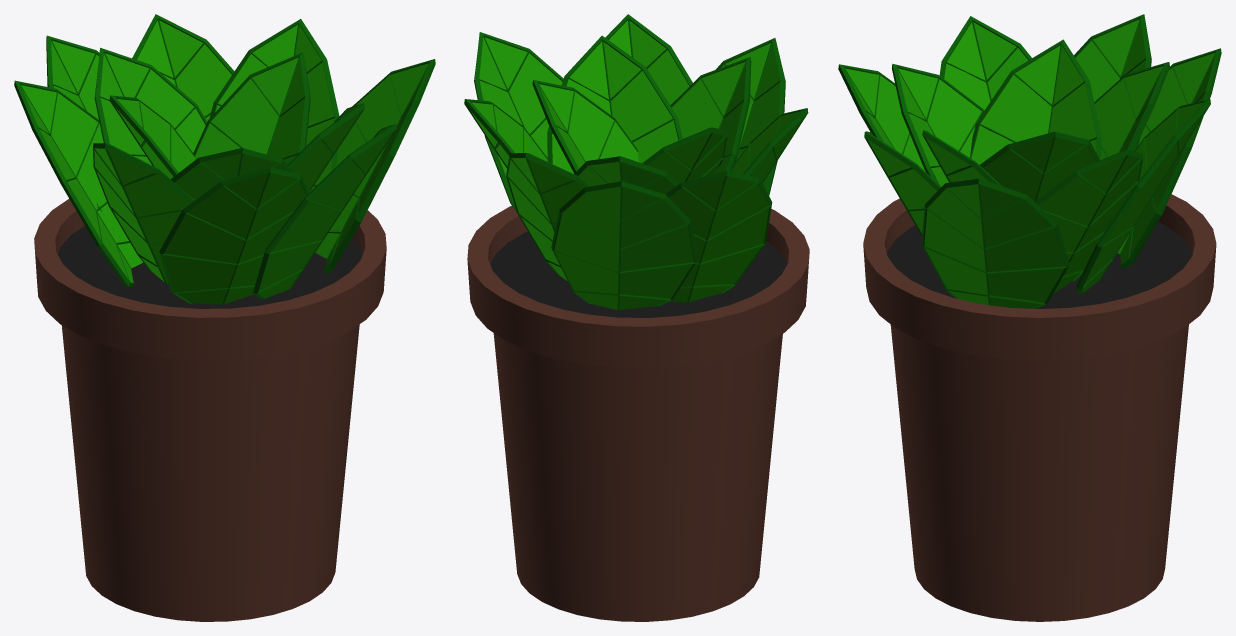
File: jakas_roslina.fbx
The picture shows the model from 3 angles, left to right: view 1: azimuth 30°, elevation 25°; view 2: azimuth 150°, elevation 25°; view 3: azimuth 270°, elevation 25°; orthographic projection. The views are drawn at different scales.
Visible parts, largest first — view 1: Cylinder; view 2: Cylinder; view 3: Cylinder.
Boxes of the visible parts, x1,y1,x2,y2 form: Cylinder: [14, 14, 435, 621]; Cylinder: [464, 14, 809, 621]; Cylinder: [838, 14, 1221, 621].
Size of the model in its own units: 258 by 345 by 247.
